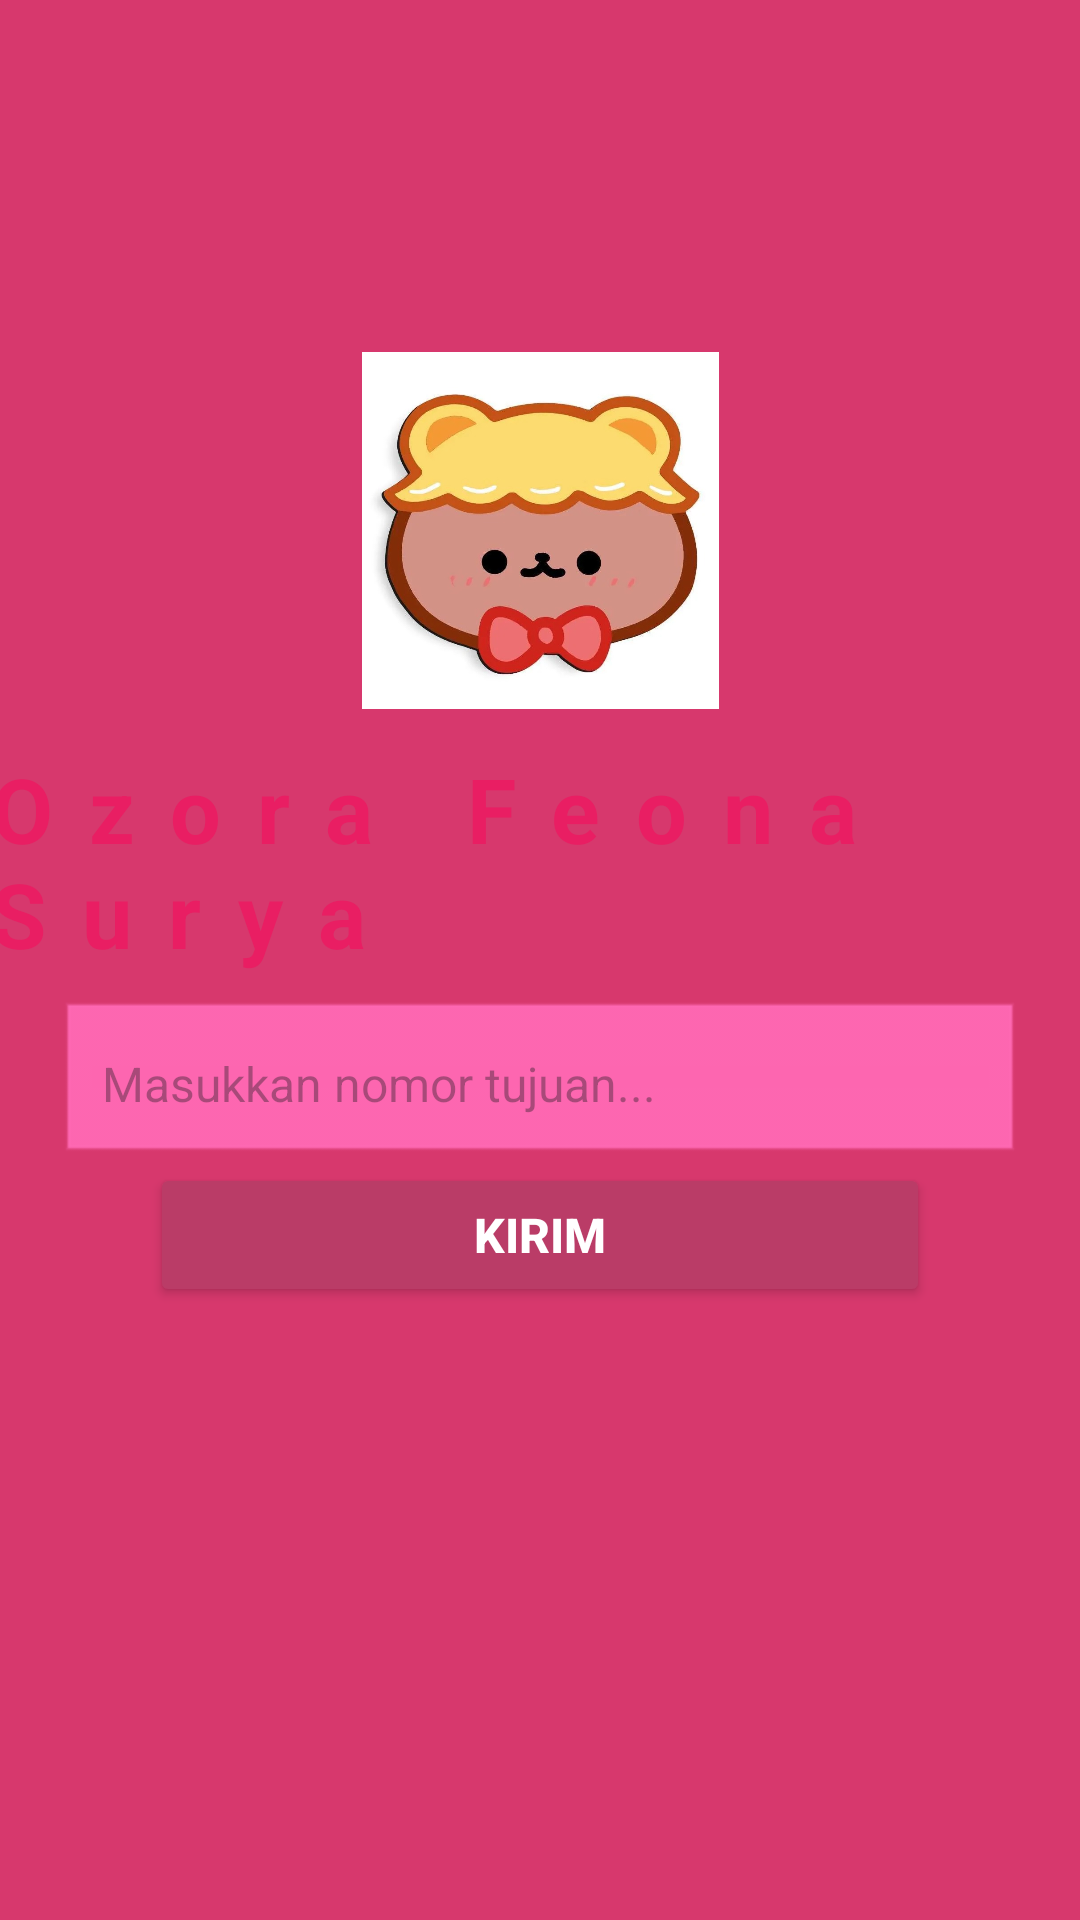

Icons on this 1080px×1920px Android screen, each with the point to tap as [x,y]:
gambar: [540,530]
